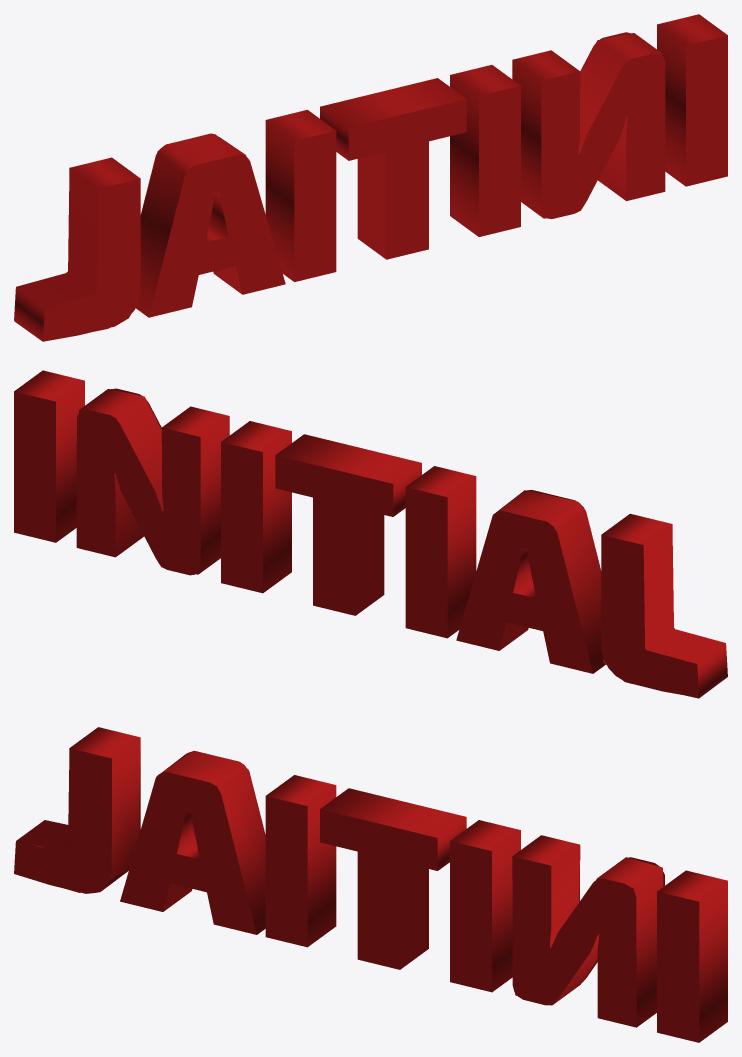
File: initial.fbx
3 views of the same model, one above another, from view 1: azimuth 30°, elevation 25°; view 2: azimuth 150°, elevation 25°; view 3: azimuth 330°, elevation 25° (orthographic).
Visible parts, largest first — view 1: Text; view 2: Text; view 3: Text.
Part boxes in pixels (x1,y1,x2,y2): Text: (14, 14, 727, 341); Text: (14, 370, 727, 698); Text: (14, 727, 727, 1042).
Bounding box in the file's own units: 10.98 × 2.18 × 0.8.
